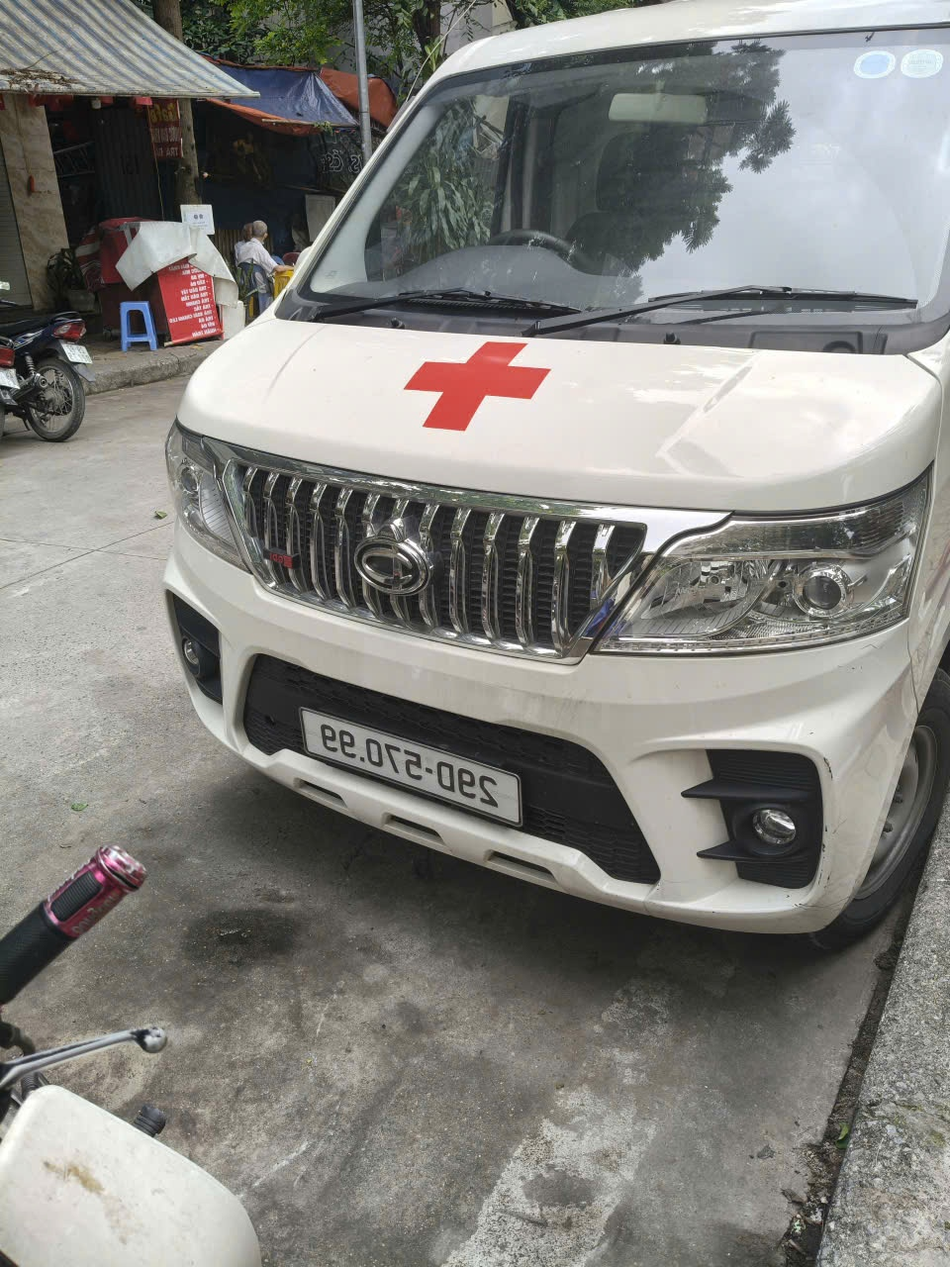plate: (709, 521, 855, 551)
